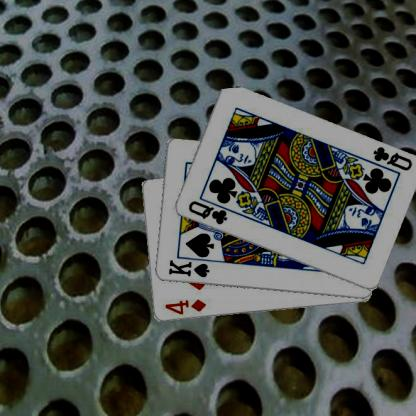4D: (162, 297, 207, 316)
KS: (166, 258, 210, 279)
QC: (370, 144, 414, 172), (185, 198, 228, 226)
